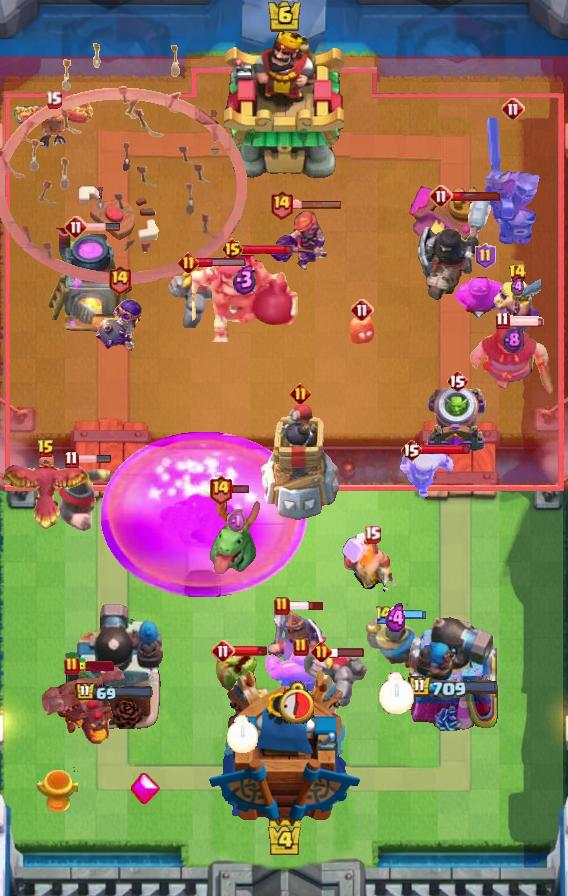archer-evolution: (42, 662, 128, 748)
arrows: (399, 448, 455, 501), (493, 279, 541, 333)
bomber: (348, 314, 376, 346)
electro-giant: (193, 249, 300, 343)
electro-spirit: (233, 265, 257, 295), (384, 602, 407, 633), (502, 326, 524, 354), (227, 508, 248, 534), (512, 277, 525, 297)
electro-wizard: (209, 493, 265, 577)
elixir: (278, 680, 315, 723), (378, 672, 414, 714), (226, 715, 258, 753)
elixir-golem-big: (264, 604, 326, 676)
emote: (242, 244, 294, 257), (420, 443, 471, 456), (451, 190, 501, 202), (291, 199, 343, 210), (196, 257, 248, 268), (507, 315, 545, 327), (287, 600, 324, 612), (232, 645, 268, 657), (329, 646, 365, 658), (392, 609, 428, 620), (85, 222, 121, 232), (76, 454, 112, 464), (78, 661, 114, 671), (230, 484, 249, 494)
firecracker: (54, 464, 110, 532), (364, 615, 428, 671)
flying-machine: (214, 650, 270, 710)
goblin-ball: (94, 298, 144, 352)
goblin-cage: (425, 384, 489, 454)
golden-knight: (0, 456, 92, 530), (12, 100, 94, 150)
hunter: (44, 228, 134, 336)
inferno-dragon: (414, 193, 496, 303)
king-tower: (207, 669, 361, 826), (224, 29, 344, 181)
knight-evolution: (100, 431, 308, 598)
mighty-miner: (341, 533, 403, 599)
royal-hog: (470, 323, 556, 397)
selected: (409, 675, 500, 700), (74, 681, 154, 702)
skeleton-barrel: (1, 41, 248, 285)
skeleton-king-skill: (130, 772, 162, 806)
tesla-evolution: (267, 209, 329, 273)
text: (270, 189, 295, 220), (108, 265, 133, 295), (208, 475, 233, 505), (501, 97, 525, 121), (429, 184, 453, 208), (64, 215, 88, 239), (350, 298, 374, 322), (211, 639, 235, 663), (221, 237, 244, 261), (476, 243, 497, 269), (446, 369, 468, 393), (400, 438, 422, 462), (289, 383, 311, 405), (178, 252, 199, 273), (311, 642, 332, 663), (374, 603, 394, 625), (509, 263, 528, 283), (37, 439, 55, 459), (274, 596, 290, 616), (293, 637, 309, 657), (64, 656, 80, 676), (45, 91, 62, 109), (364, 525, 381, 543), (65, 451, 80, 469), (495, 311, 509, 329)
tornado: (450, 269, 520, 327), (264, 647, 338, 699)
tower-bar: (64, 601, 164, 731), (407, 611, 499, 731)
valkyrie-evolution: (166, 266, 242, 328), (303, 648, 367, 708)
wall-breaker-evolution: (481, 115, 545, 249)
zappy: (257, 402, 343, 522)
